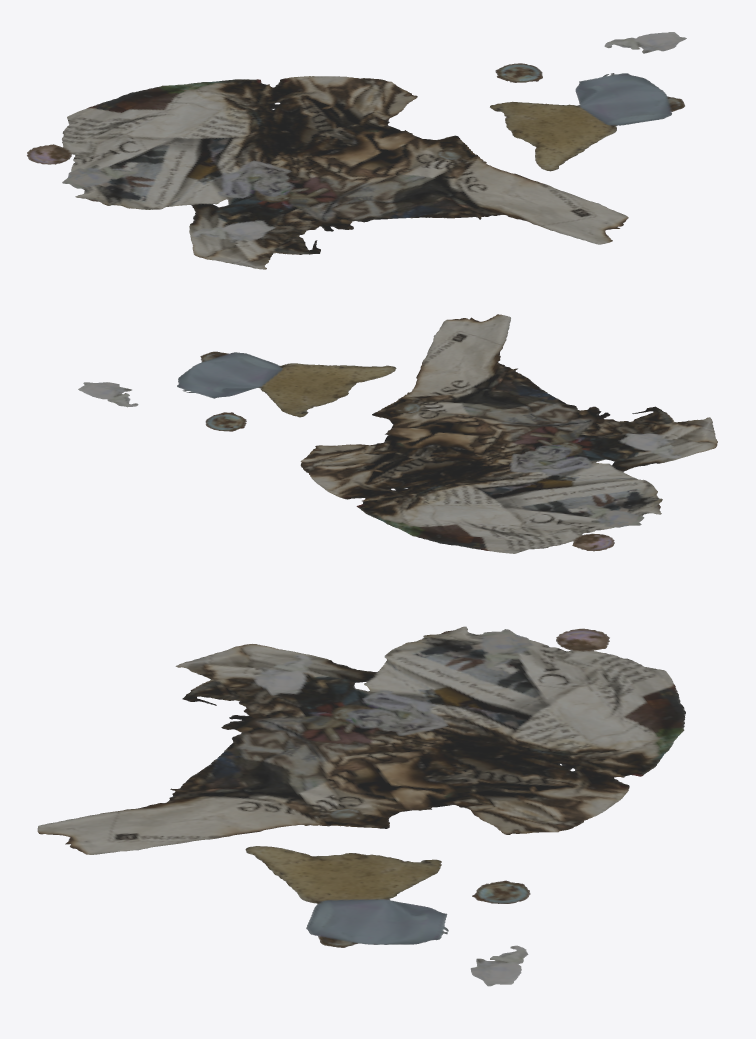
The model's file is SM_Debris_02.FBX.
3 views of the same model, one above another, from view 1: azimuth 30°, elevation 25°; view 2: azimuth 150°, elevation 25°; view 3: azimuth 270°, elevation 25° (orthographic). The views are drawn at different scales.
Visible parts, largest first — view 1: SM_Debris_02; view 2: SM_Debris_02; view 3: SM_Debris_02.
Part boxes in pixels (bbox=[...]): SM_Debris_02: bbox=[27, 32, 686, 269]; SM_Debris_02: bbox=[78, 314, 717, 553]; SM_Debris_02: bbox=[37, 626, 685, 986].
Bounding box in the file's own units: 68.26 × 50.47 × 8.23e-06.
